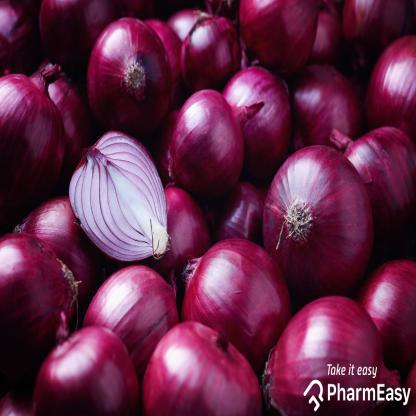onion: (263, 292, 401, 416), (264, 147, 371, 299), (181, 236, 290, 363), (68, 129, 166, 264), (168, 87, 261, 202), (143, 324, 258, 416), (28, 322, 141, 415), (85, 16, 170, 136), (82, 263, 176, 366), (0, 70, 68, 207), (338, 123, 416, 233), (223, 64, 291, 176), (240, 0, 324, 73)
